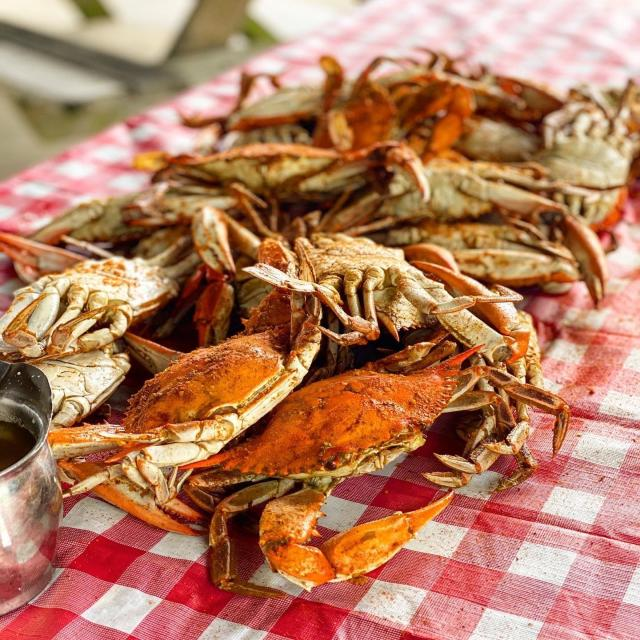crab: (150, 328, 358, 461)
